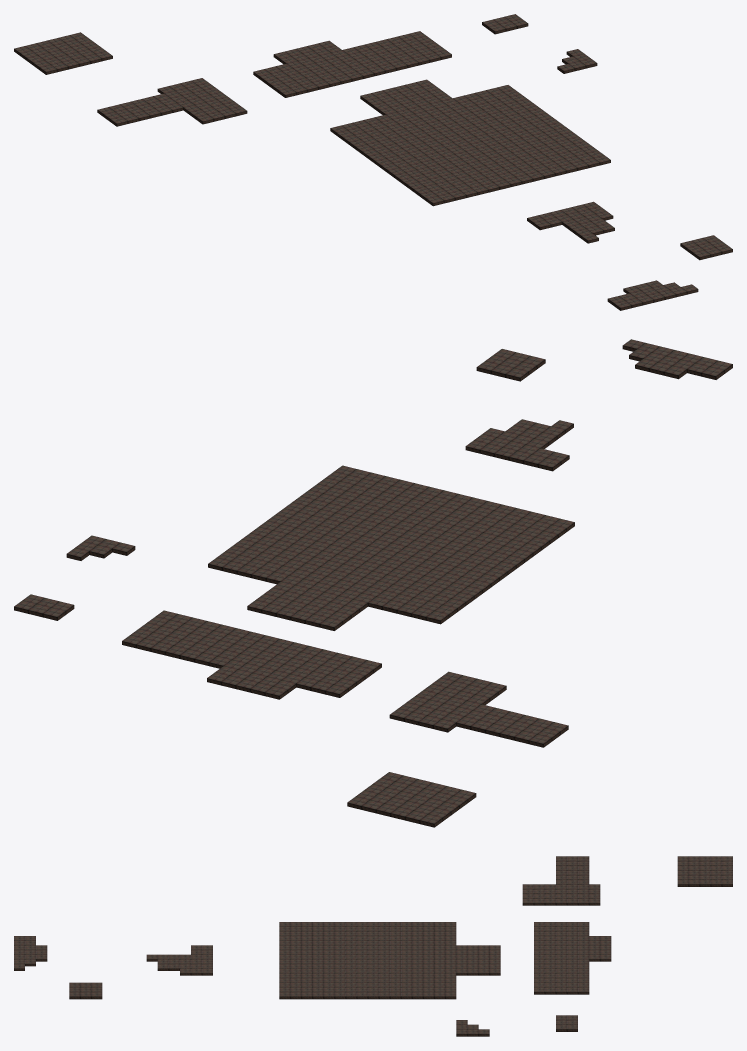
The model's file is TermProject_P3_floor.fbx.
The picture shows the model from 3 angles, top to bottom: view 1: azimuth 30°, elevation 25°; view 2: azimuth 150°, elevation 25°; view 3: azimuth 270°, elevation 25°; orthographic projection. The views are drawn at different scales.
Visible parts, largest first — view 1: Floor.709; view 2: Floor.709; view 3: Floor.709.
Part boxes in pixels (box(x1,y1,x2,y2)): Floor.709: box(14, 14, 732, 310); Floor.709: box(14, 339, 732, 827); Floor.709: box(14, 856, 732, 1036).
Bounding box in the file's own units: 15200 × 100 × 26000.
